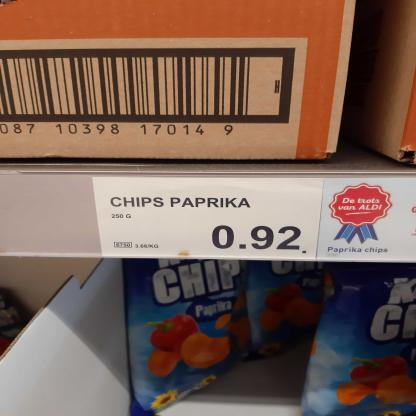prtg: (93, 178, 325, 261)
